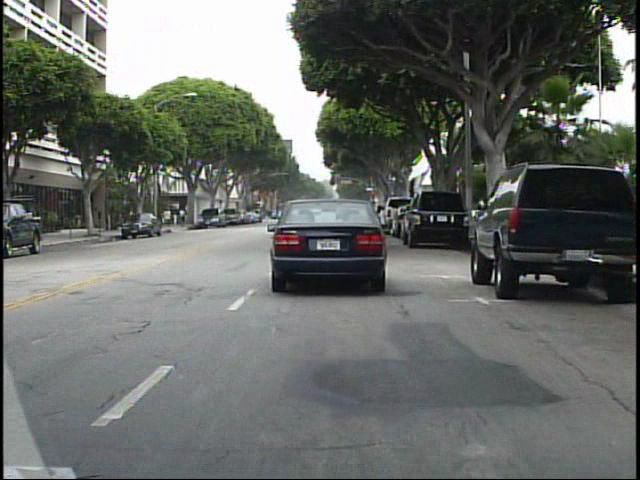person: (178, 203, 191, 229), (162, 205, 175, 230)
